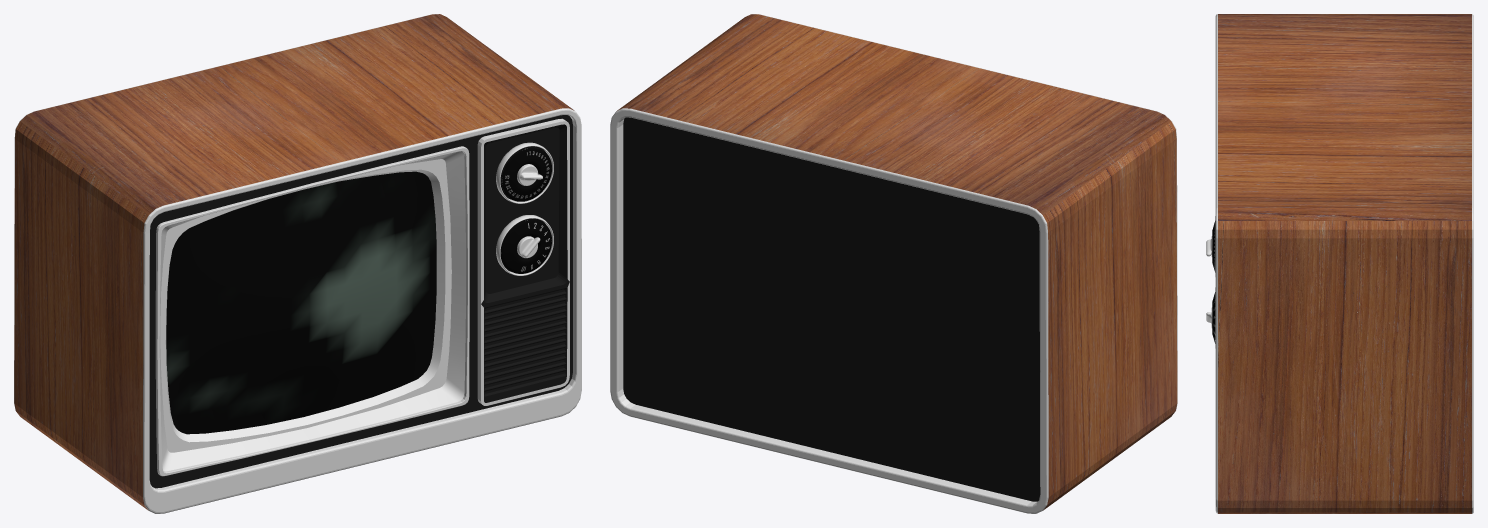
The model's file is vintage TV.fbx.
The picture shows the model from 3 angles, left to right: view 1: azimuth 30°, elevation 25°; view 2: azimuth 150°, elevation 25°; view 3: azimuth 270°, elevation 25°; orthographic projection.
Visible parts, largest first — view 1: Cube, Plane, Cylinder.001, Cylinder.003, Cylinder.005, Cylinder.006; view 2: Cube; view 3: Cube.
Part boxes in pixels (bbox=[...]): Cube: bbox=[14, 14, 581, 513]; Plane: bbox=[166, 171, 436, 434]; Cylinder.001: bbox=[500, 218, 551, 273]; Cylinder.003: bbox=[500, 146, 551, 201]; Cylinder.005: bbox=[496, 142, 553, 203]; Cylinder.006: bbox=[496, 215, 553, 275]; Cube: bbox=[610, 14, 1177, 513]; Cube: bbox=[1215, 14, 1473, 513].
Size of the model in its own units: 499 by 335 by 267.
Materials: 6 (3 with a texture image).
